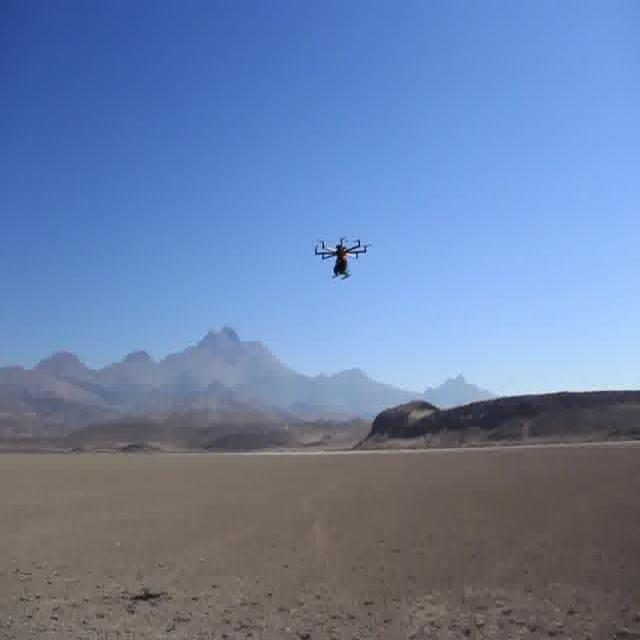drone: (312, 220, 376, 286)
